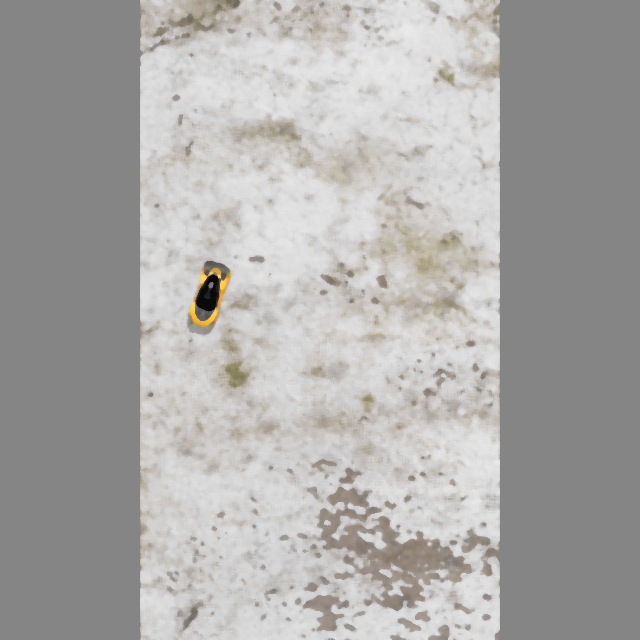car: (182, 257, 234, 331)
